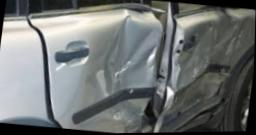Door: (27, 7, 161, 134), (165, 10, 255, 133)
